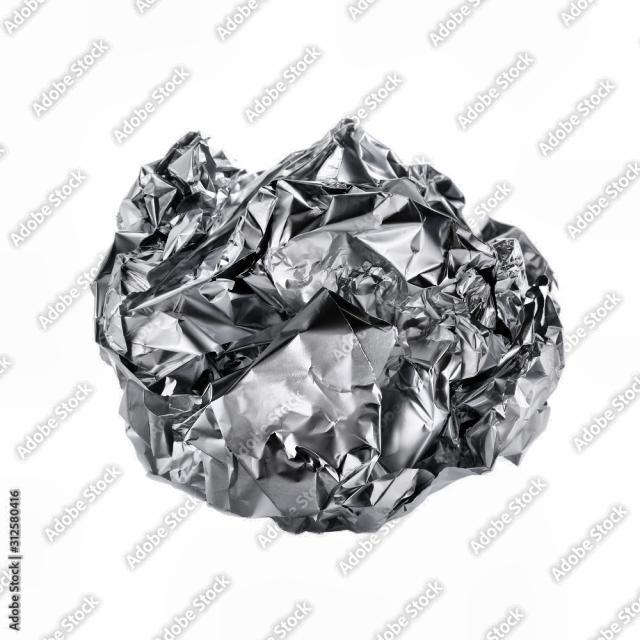Foil: (70, 108, 588, 551)
